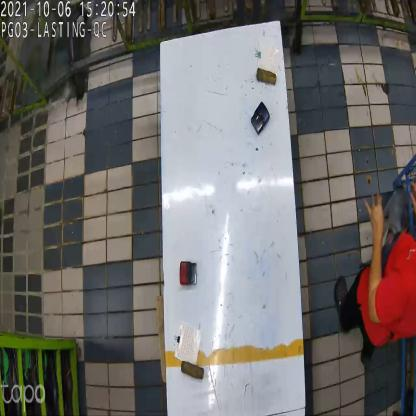stamp: (251, 100, 271, 136), (178, 257, 198, 288)
